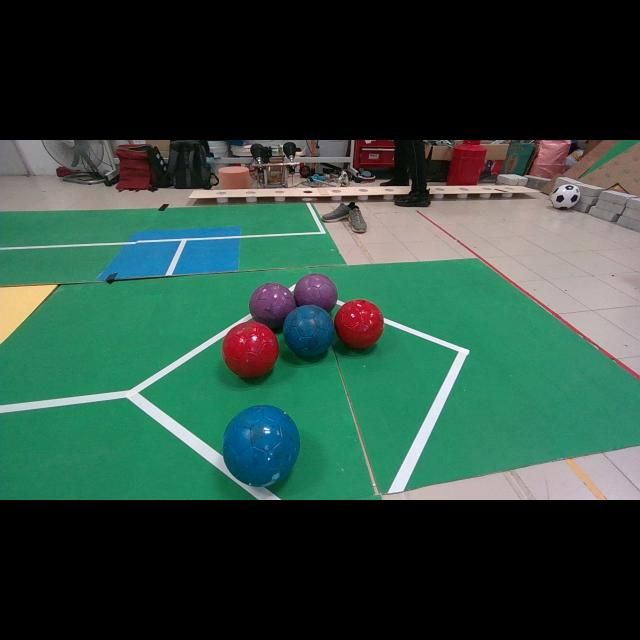B: (222, 405, 300, 486), (282, 305, 335, 358)
P: (249, 282, 296, 329), (294, 274, 338, 312)
R: (222, 321, 279, 378), (334, 299, 384, 349)
